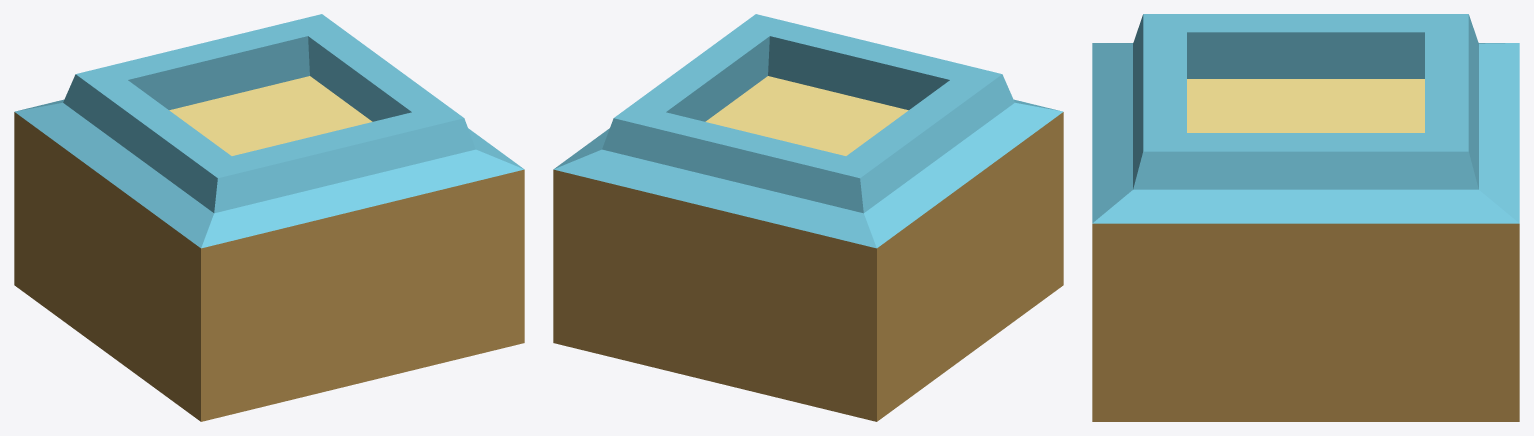
File: socle_city_big.fbx
3 renders of one model, left to right at view 1: azimuth 30°, elevation 25°; view 2: azimuth 150°, elevation 25°; view 3: azimuth 270°, elevation 25°, orthographic. The views are drawn at different scales.
Parts seen in each view (by area): view 1: Citysocle; view 2: Citysocle; view 3: Citysocle.
Boxes of the visible parts, x1,y1,x2,y2 form: Citysocle: (14,14,524,421); Citysocle: (553,14,1063,421); Citysocle: (1092,14,1519,421).
Size of the model in its own units: 54.69 by 35.18 by 54.69.
